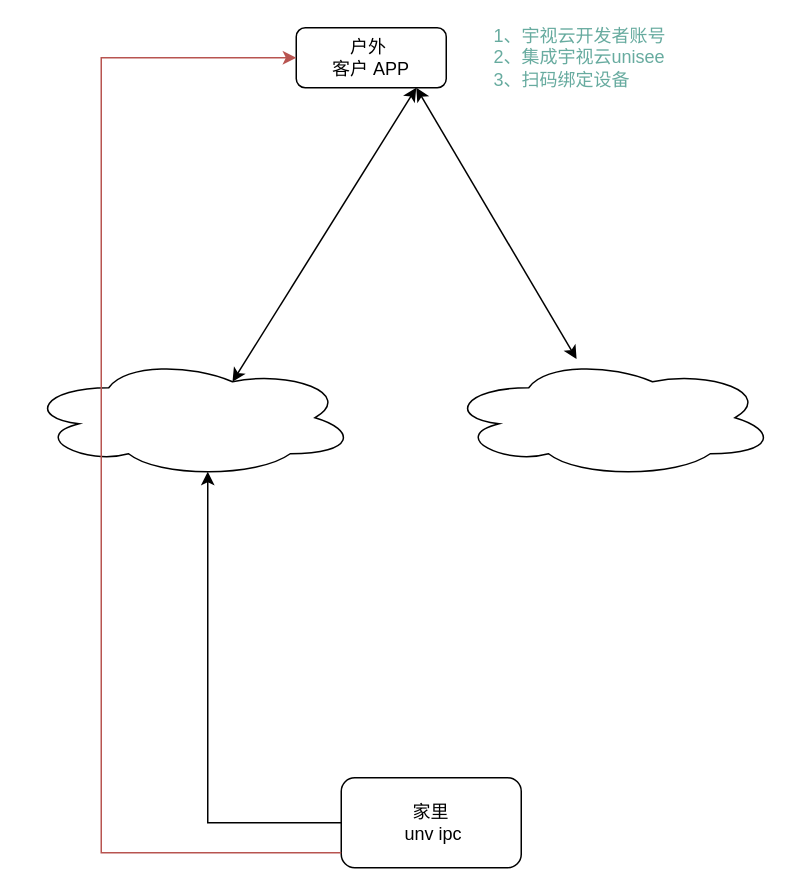
Some shapes in this 803 by 894 pixel diagram are drawn without their labels. Each missing label, with the centre of its shape:
"宇视云" goes at point (190, 417).
"客户 云" goes at point (610, 417).
